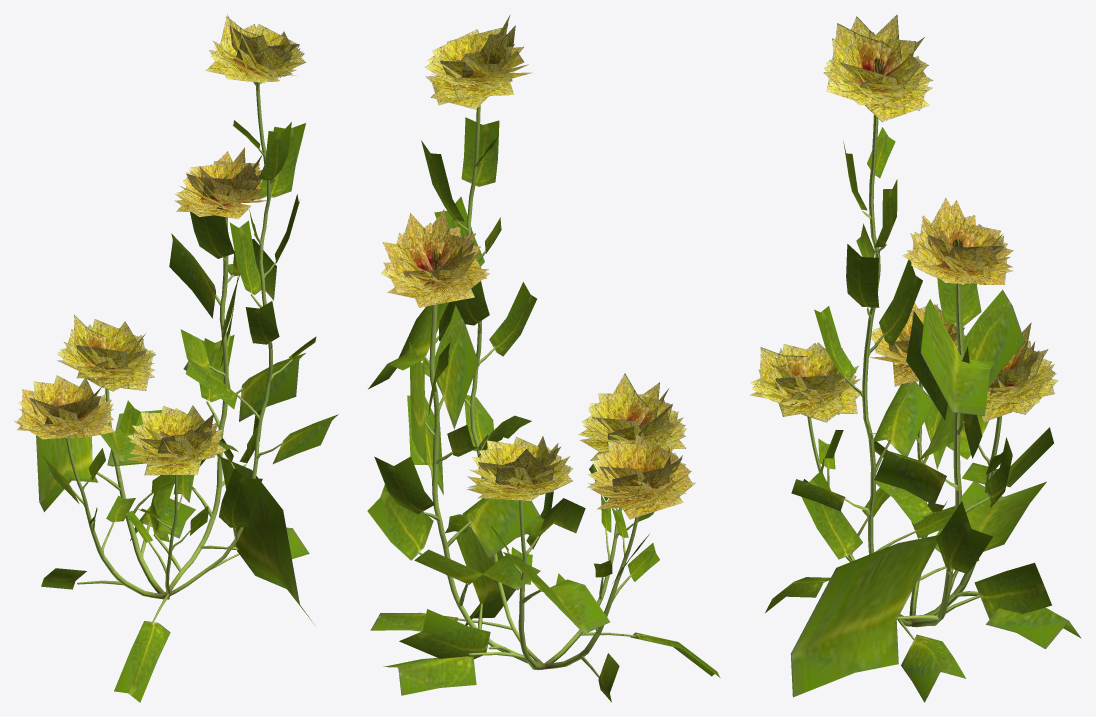
Rendered from yello_flower1.FBX.
3 views of the same model, side by side, from view 1: azimuth 30°, elevation 25°; view 2: azimuth 150°, elevation 25°; view 3: azimuth 270°, elevation 25° (orthographic). The views are drawn at different scales.
Visible parts, largest first — view 1: Yellow_F002; view 2: Yellow_F002; view 3: Yellow_F002.
Boxes of the visible parts, x1,y1,x2,y2 form: Yellow_F002: (14,14,338,702); Yellow_F002: (367,15,720,702); Yellow_F002: (749,14,1081,702).
Bounding box in the file's own units: 0.3755 × 0.7545 × 0.3346.
